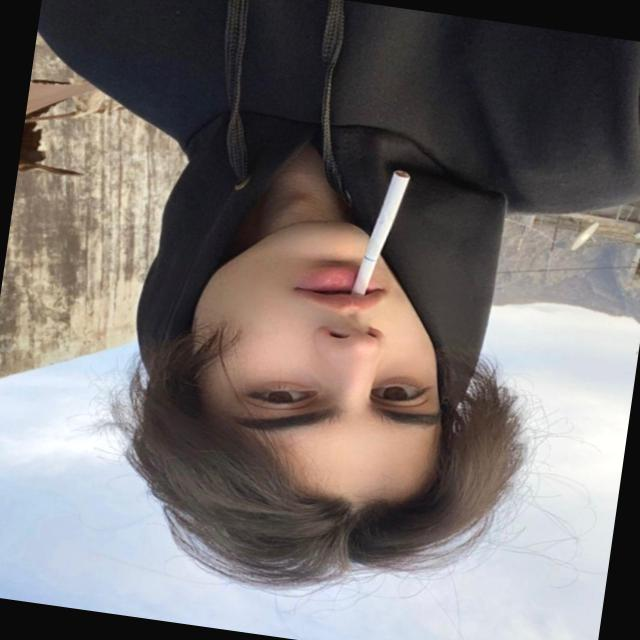smoke: (324, 147, 435, 313)
